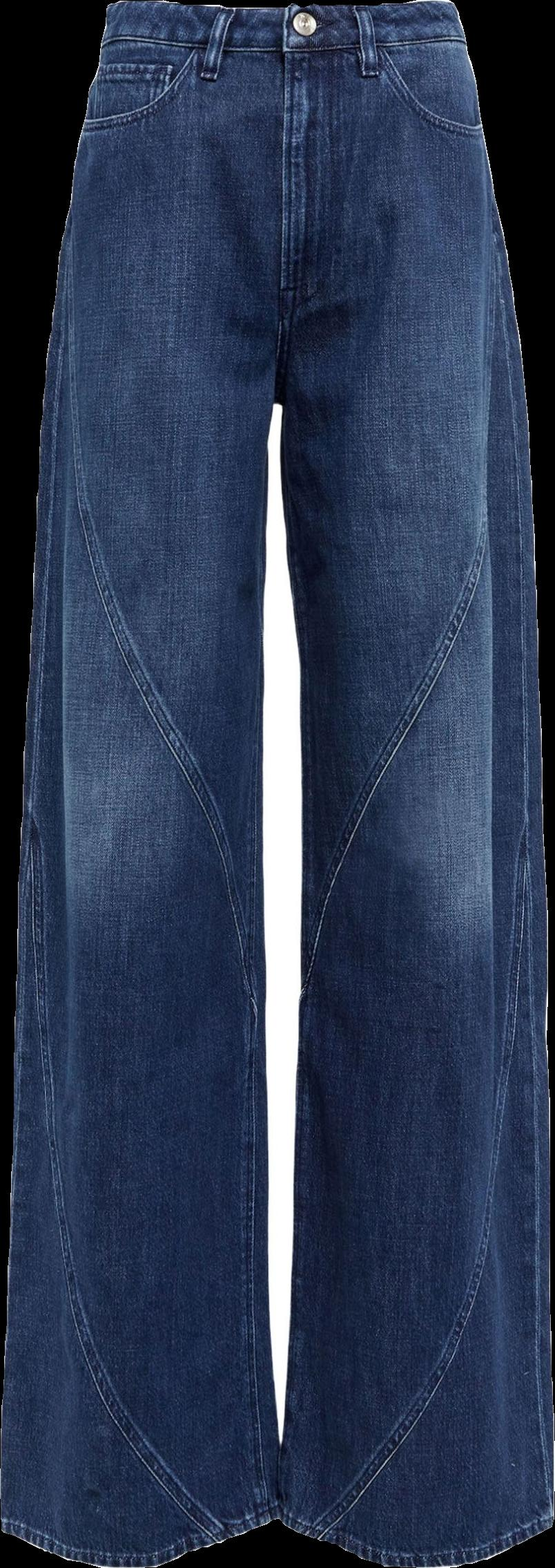Hemline: (1, 1498, 283, 1567), (271, 1504, 554, 1567)
Pantleg: (1, 1, 287, 1564), (279, 1, 554, 1564)
Waistline: (302, 804, 545, 1545), (291, 263, 518, 1001), (51, 265, 270, 1022), (20, 806, 226, 1548), (101, 32, 471, 62), (104, 0, 461, 23)
